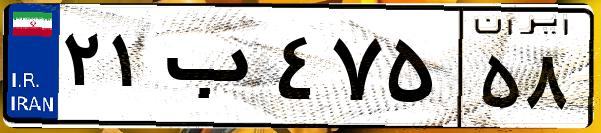1: (110, 28, 158, 98)
2: (57, 26, 110, 100)
4: (270, 28, 330, 110)
5: (385, 28, 445, 110), (475, 38, 525, 113)
7: (330, 28, 385, 110)
8: (525, 38, 570, 115)
ب: (158, 20, 270, 120)
